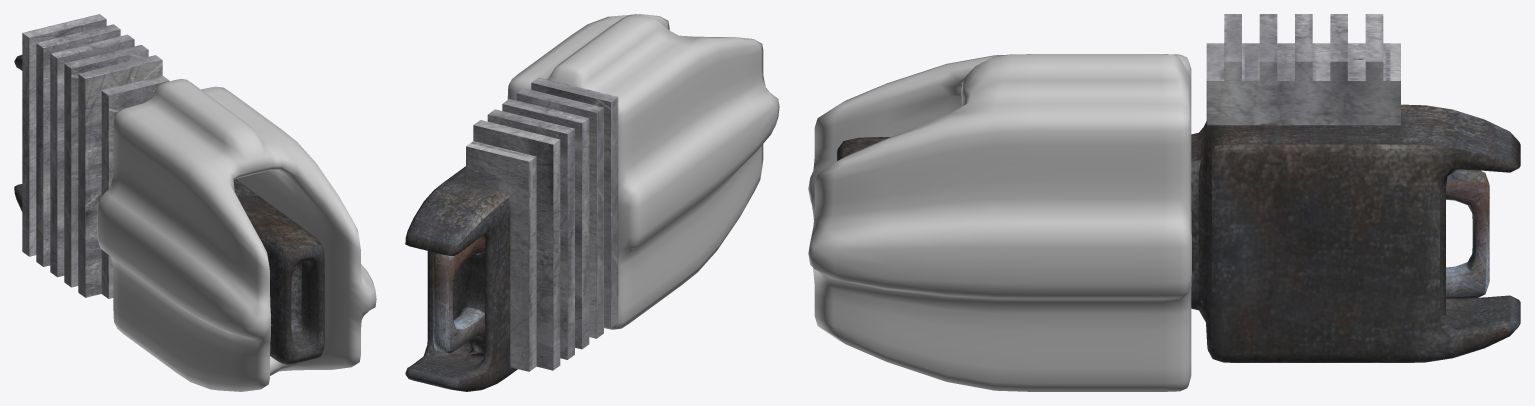
File: Blitch.fbx
The picture shows the model from 3 angles, left to right: view 1: azimuth 30°, elevation 25°; view 2: azimuth 150°, elevation 25°; view 3: azimuth 270°, elevation 25°; orthographic projection. The views are drawn at different scales.
Parts seen in each view (by area): view 1: Blaster, Side, shooter; view 2: Blaster, Side, shooter; view 3: Blaster, shooter, Side.
Part boxes in pixels (box(x1,y1,x2,y2)): Blaster: box(97, 78, 376, 391); Side: box(22, 14, 169, 298); shooter: box(14, 55, 324, 364); Blaster: box(507, 14, 779, 329); Side: box(466, 77, 618, 371); shooter: box(405, 166, 517, 391); Blaster: box(808, 54, 1191, 391); shooter: box(837, 104, 1520, 362); Side: box(1206, 14, 1400, 125).
Size of the model in its own units: 99.65 by 171 by 335.
